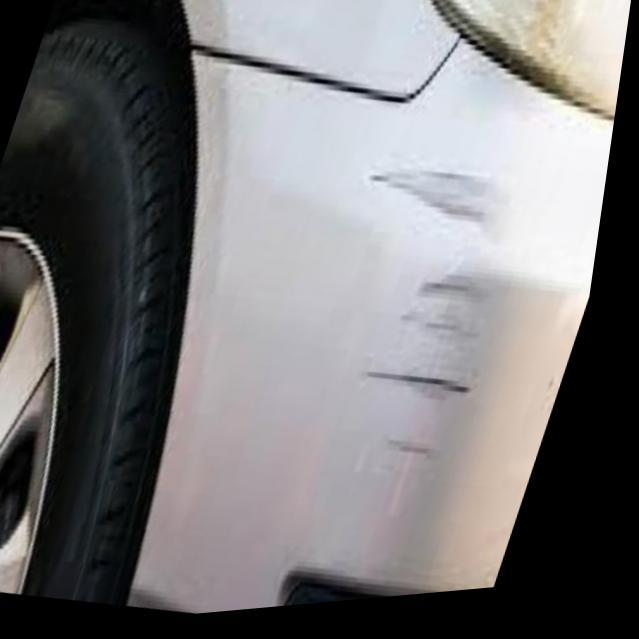crack: (377, 170, 521, 478)
